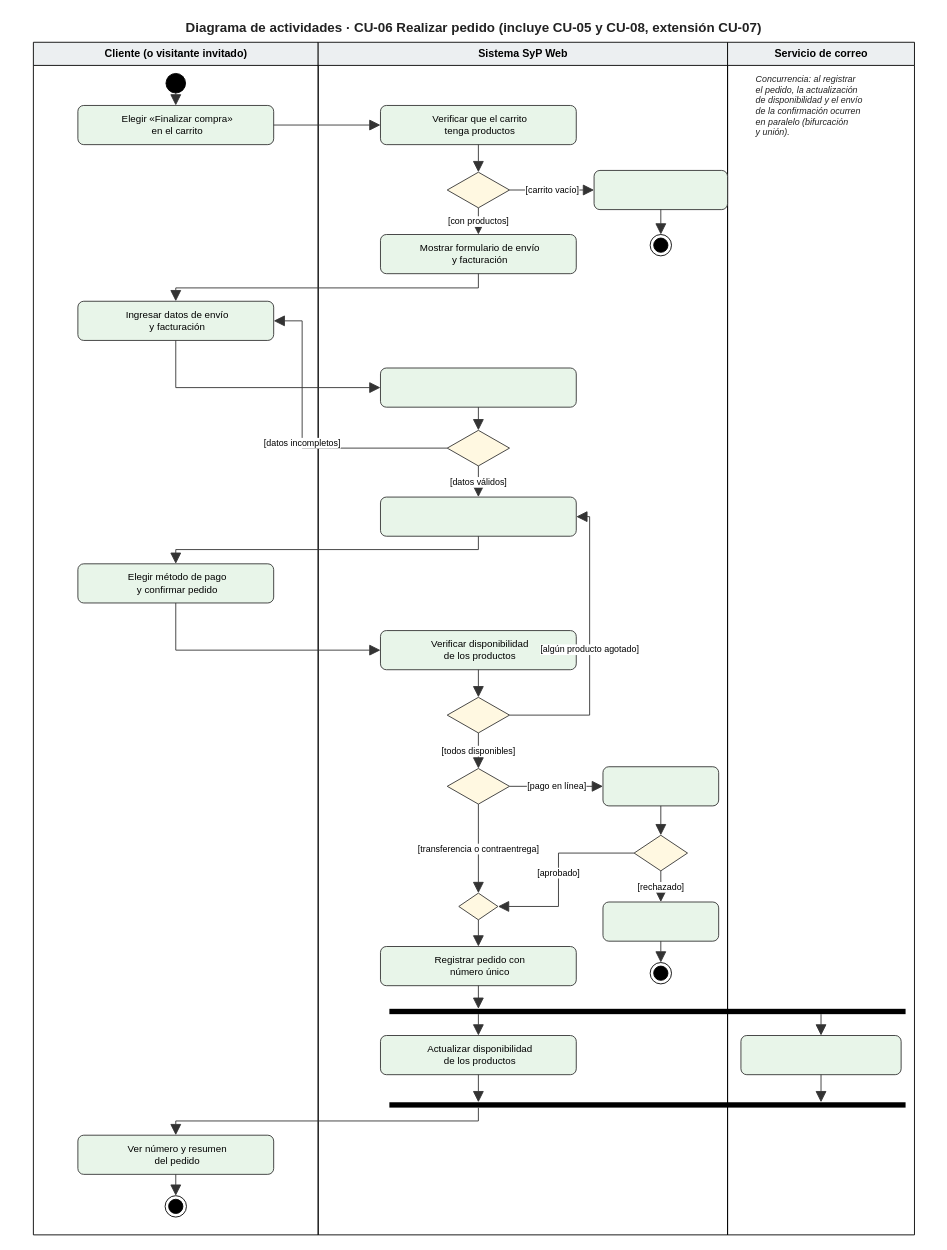
Some shapes in this 947 by 1250 pixel diagram are drawn without their labels. The centre of each missing label's shape, as x and y in pixels:
"Avisar «carrito vacío» y volver al catálogo" goes at pixel 660 190.
"Calcular total y mostrar resumen (CU-05)" goes at pixel 478 516.
"Cobrar en la pasarela (CU-07)" goes at pixel 660 786.
"Enviar confirmación al cliente (CU-08)" goes at pixel 820 1055.
"Informar rechazo y conservar carrito" goes at pixel 660 921.
"Validar datos obligatorios" goes at pixel 478 387.
